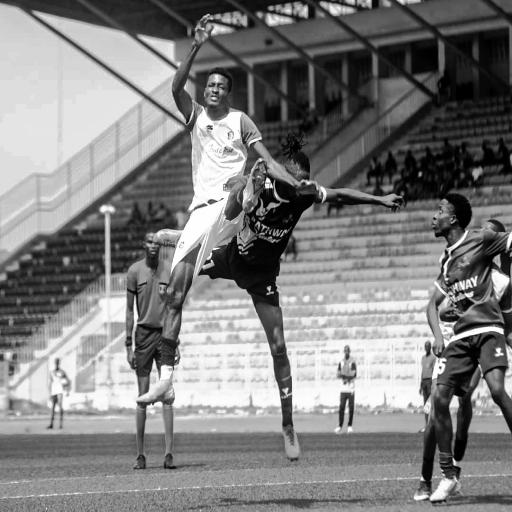referee: (118, 221, 184, 477)
team1: (226, 144, 356, 471), (405, 189, 512, 512)
team2: (145, 2, 257, 424)
